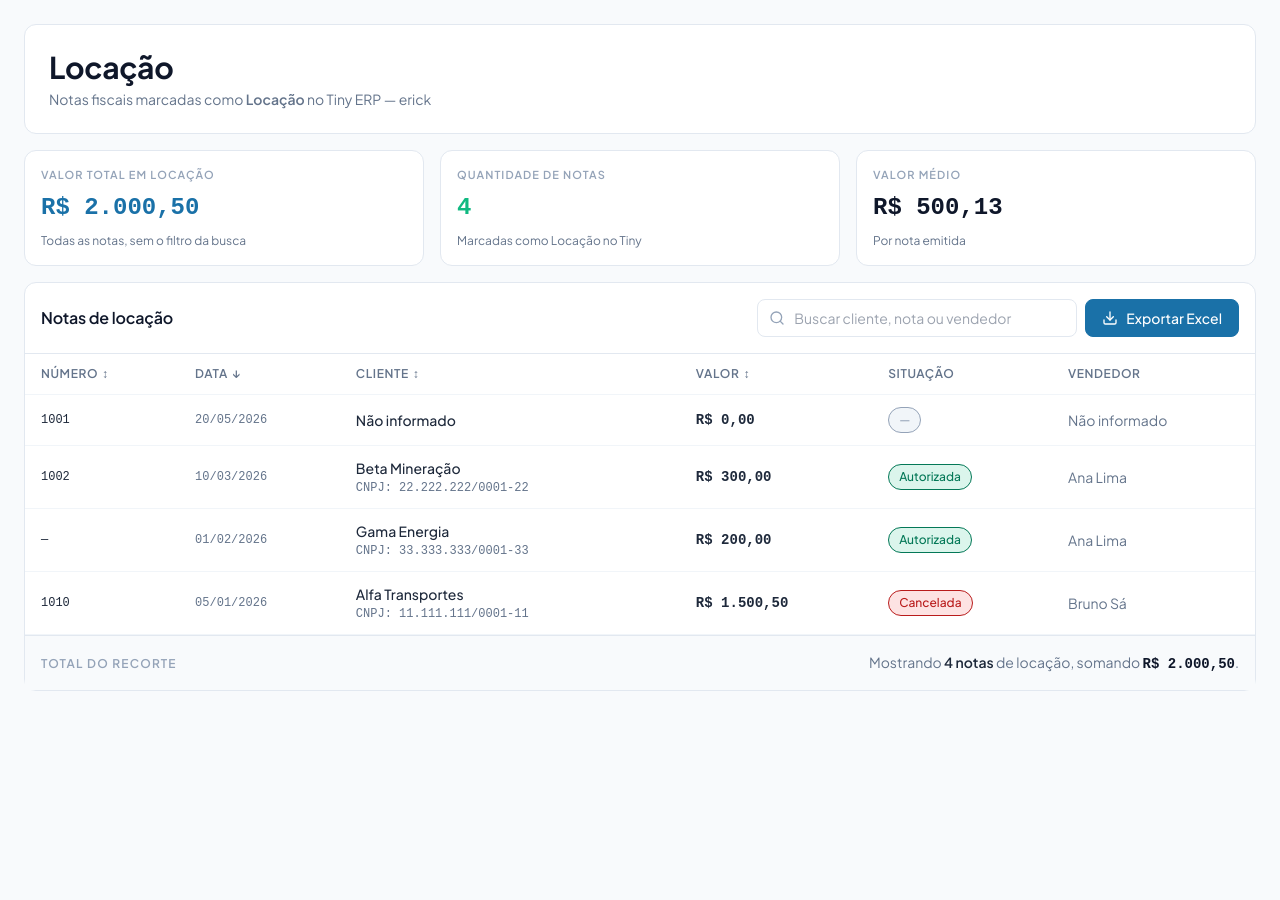
Test: Locação — exportação para Excel › quando a busca não acha nada, o botão de exportar também fica desabilitado
This screenshot has width=1280, height=900.
Expected: the table is shown, 25,354 -> 1255,635
Expected: the button "Exportar Excel" is enabled, 1085,299 -> 1239,337
Type "nada que exista" into the field at (917, 318), box 757,299 -> 1077,337
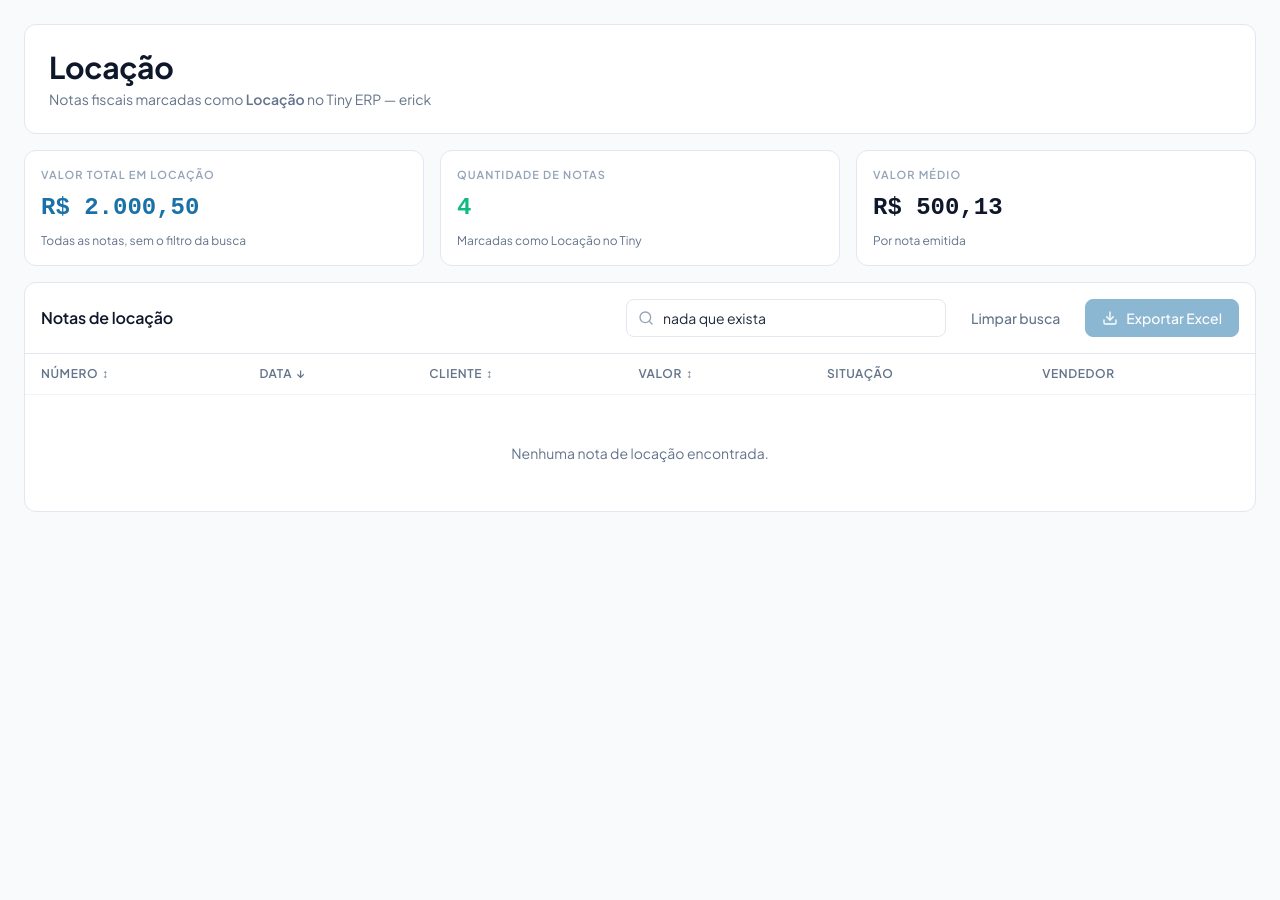
Expected: the button "Exportar Excel" is disabled, 1085,299 -> 1239,337
